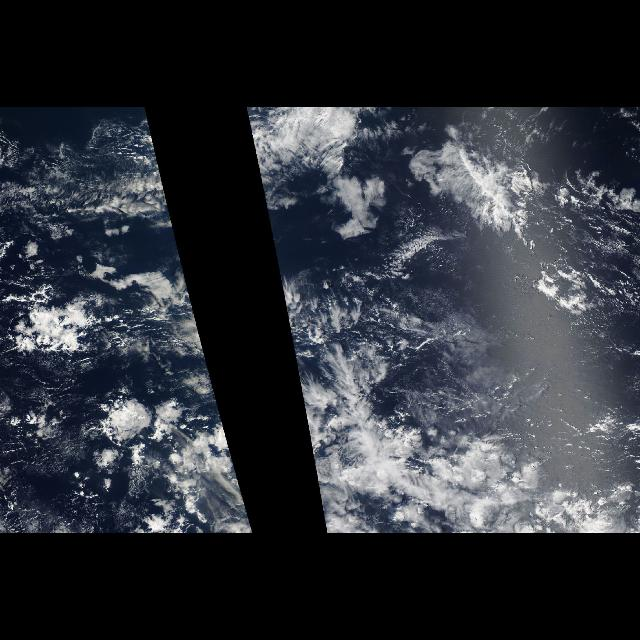Fish: (280, 113, 634, 533)
